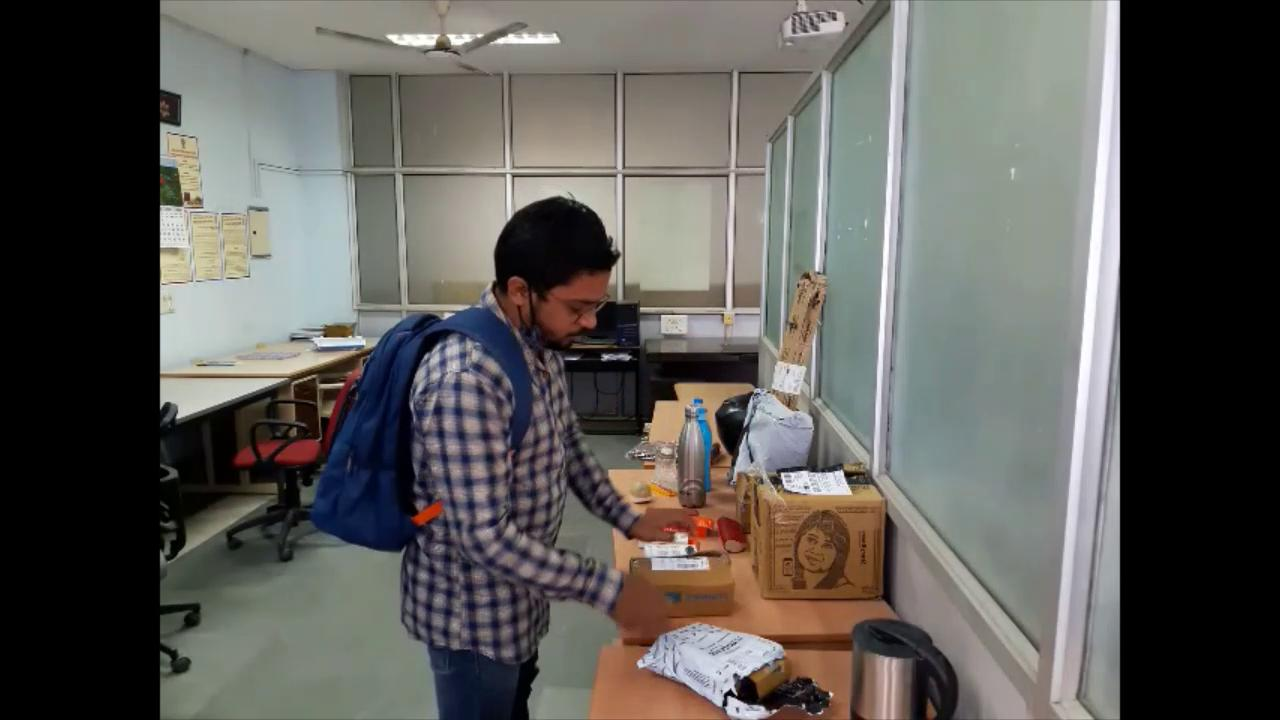Normal: (309, 173, 735, 720)
